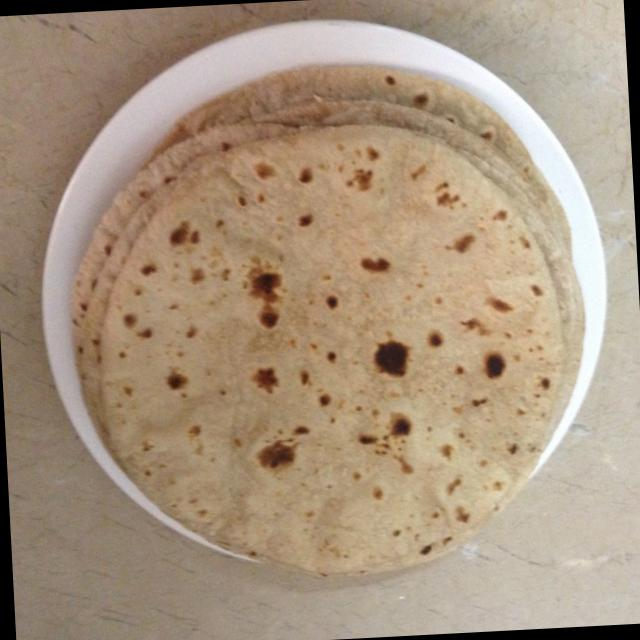roti: (77, 59, 593, 580)
